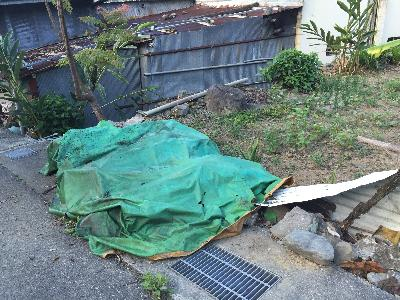plastic_bag: (60, 119, 238, 254)
